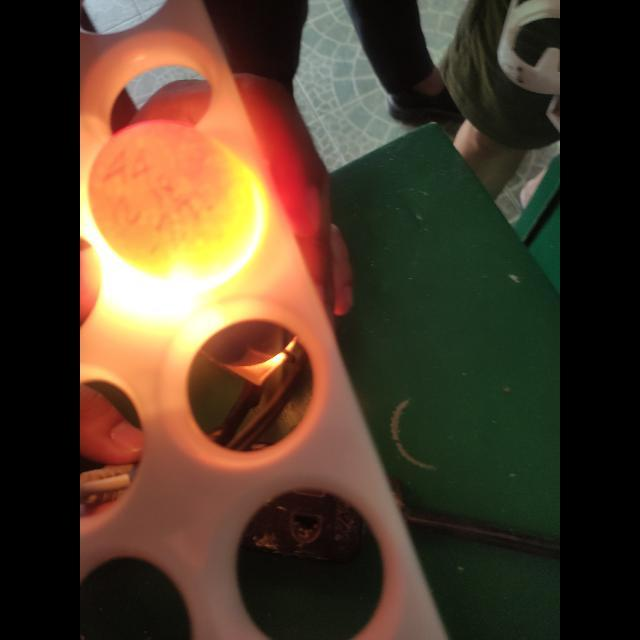Infertile: (101, 126, 251, 262)
